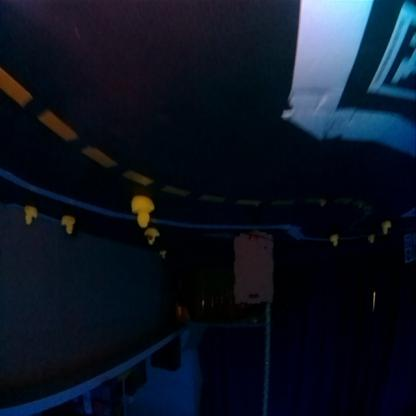Duckie: (131, 196, 153, 227), (24, 206, 36, 226), (61, 217, 74, 235), (146, 229, 158, 245), (329, 236, 338, 247), (382, 222, 390, 234), (368, 236, 374, 244), (160, 253, 166, 260)
QR code: (367, 6, 415, 102)
